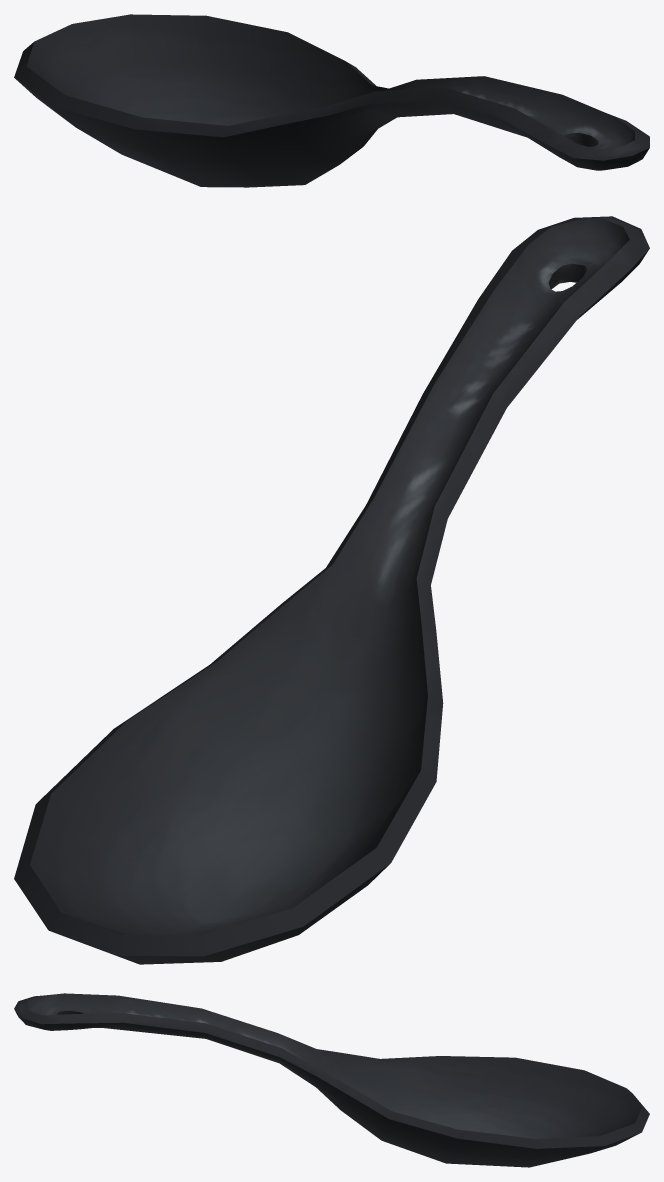
The model's file is ramenBigspoon.fbx.
3 renders of one model, top to bottom at view 1: azimuth 30°, elevation 25°; view 2: azimuth 150°, elevation 25°; view 3: azimuth 270°, elevation 25°, orthographic. The views are drawn at different scales.
Visible parts, largest first — view 1: ramenBigspoon; view 2: ramenBigspoon; view 3: ramenBigspoon.
Part boxes in pixels (<box>): ramenBigspoon: <box>14,14,649,187</box>; ramenBigspoon: <box>14,216,649,964</box>; ramenBigspoon: <box>14,993,649,1167</box>.
Size of the model in its own units: 14.16 by 13.87 by 44.96.
